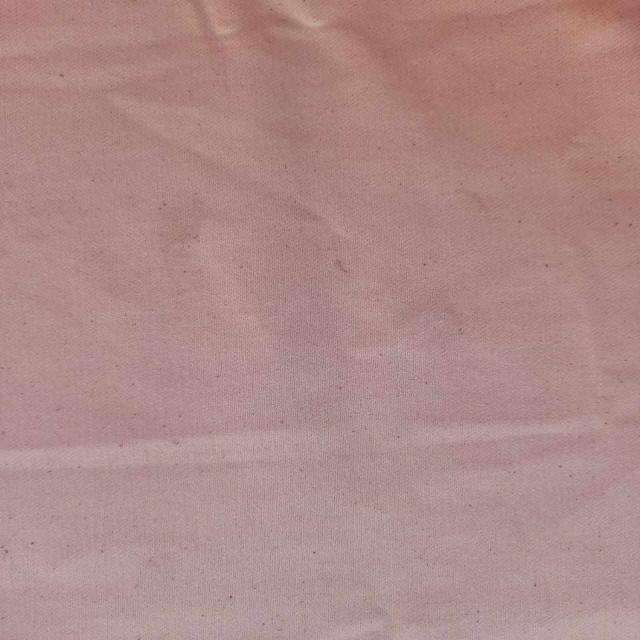taaaches: (157, 205, 205, 255)
